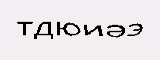Д: (33, 18, 55, 44)
И: (81, 19, 104, 40)
Т: (14, 18, 32, 35)
Э: (128, 19, 143, 38)
Ю: (56, 15, 82, 37)
Ә: (105, 18, 124, 40)
